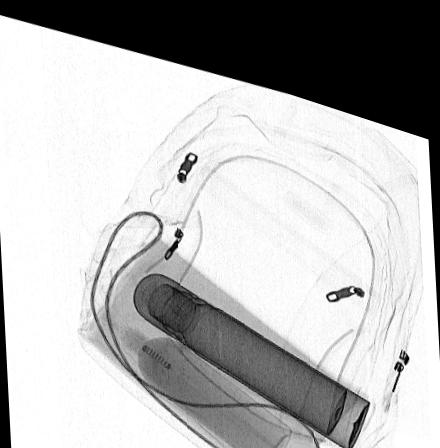Lighter: (340, 430, 369, 448)
